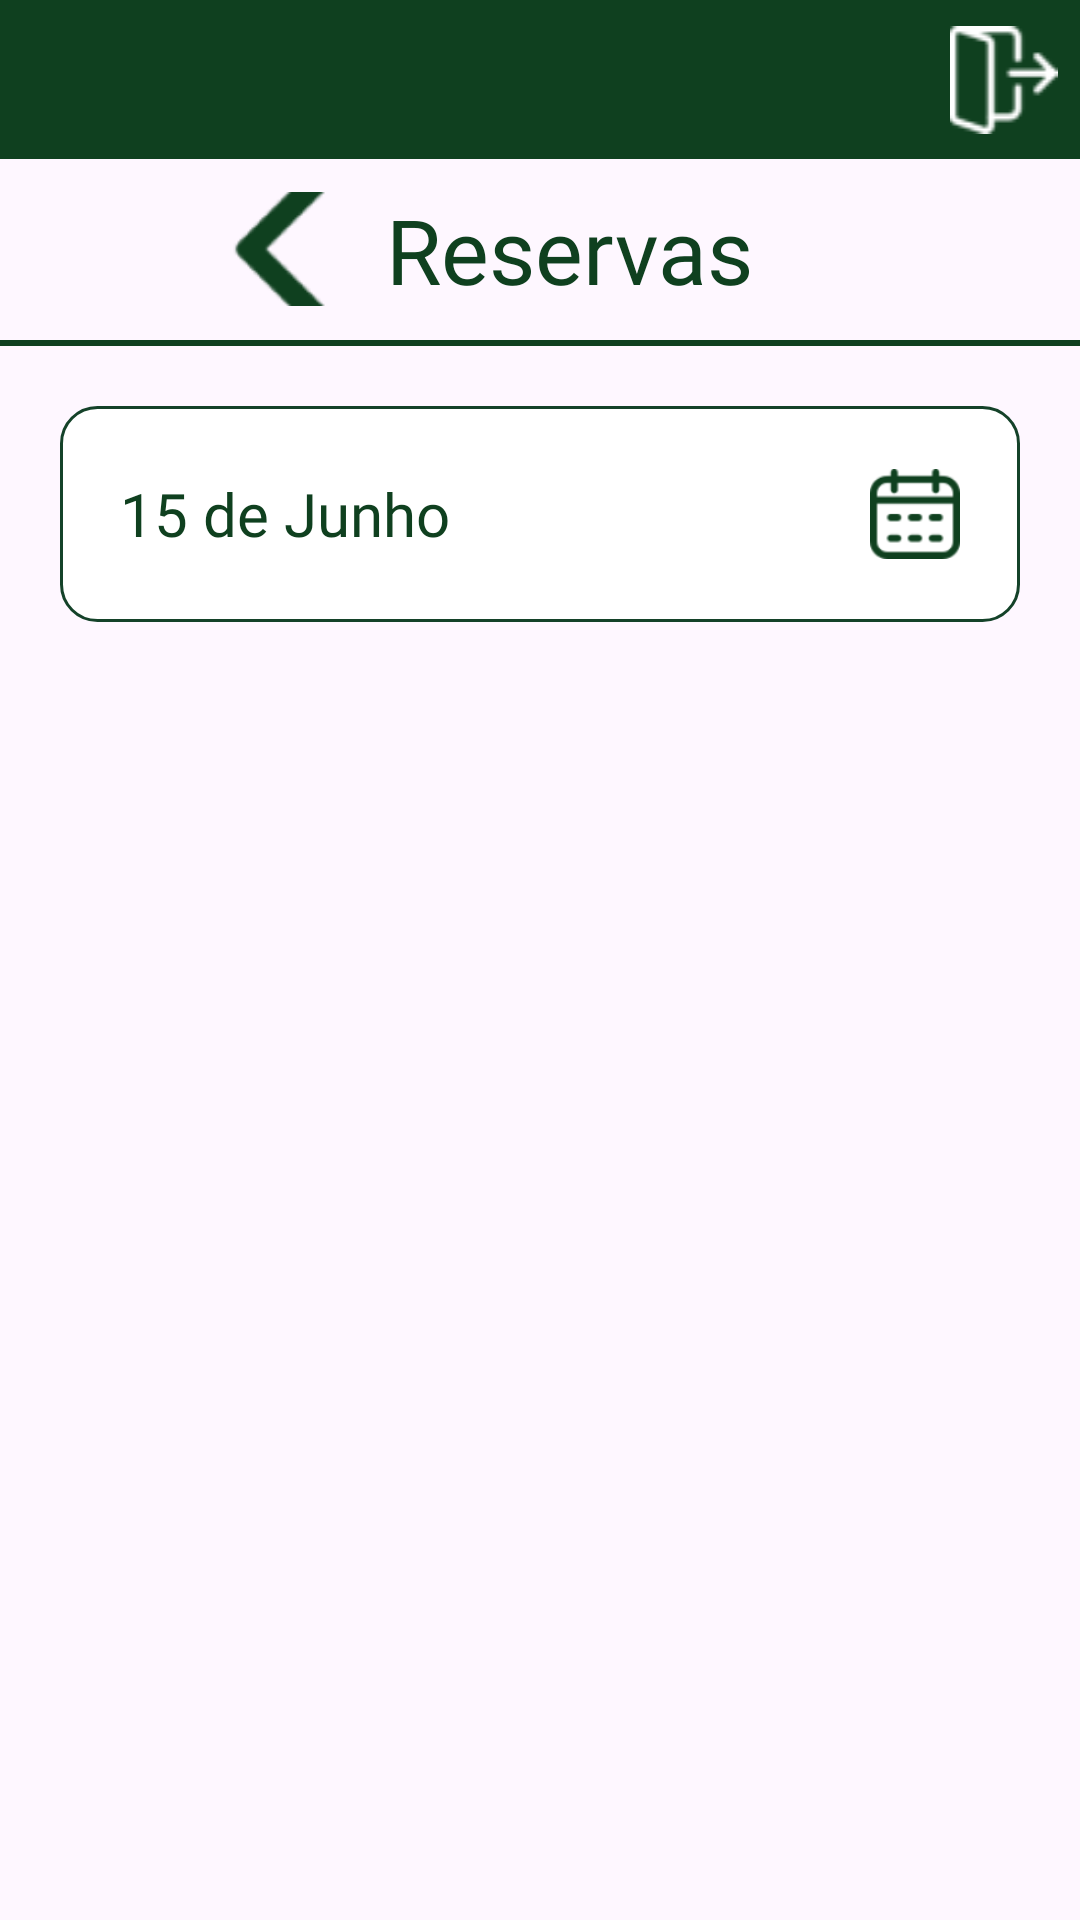

Screen size 1080 x 1920. Icon name, then its box in pixels as (x1, y1, x2, y2):
back page arrow: (235, 192, 325, 306)
calendar: (870, 469, 960, 559)
